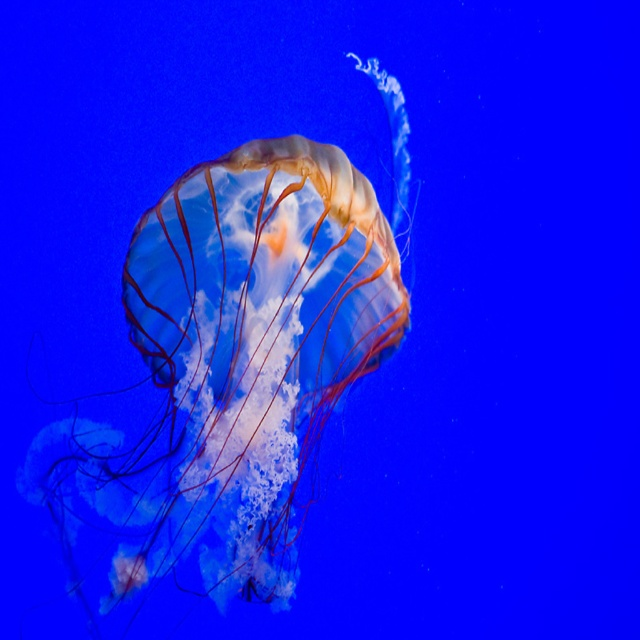Jellyfish: (30, 114, 434, 640)
